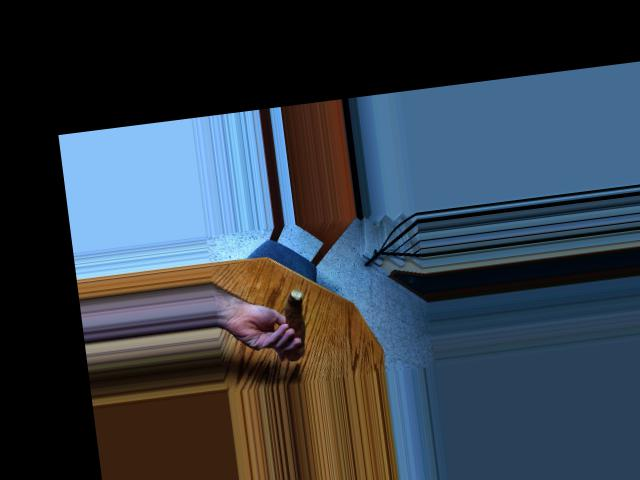sweet_potato: (278, 283, 310, 361)
